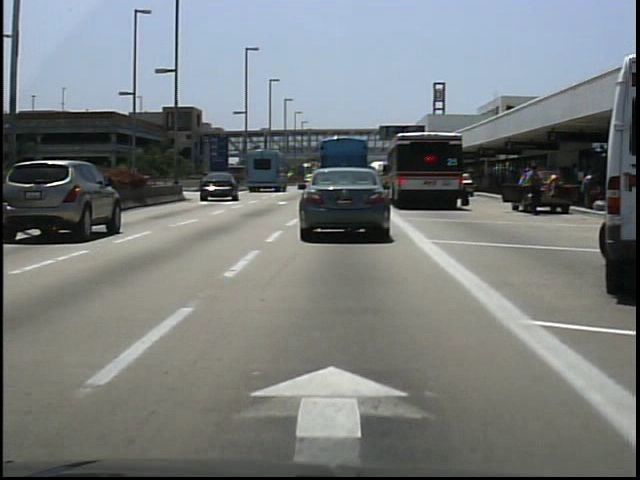person: (522, 163, 545, 217)
